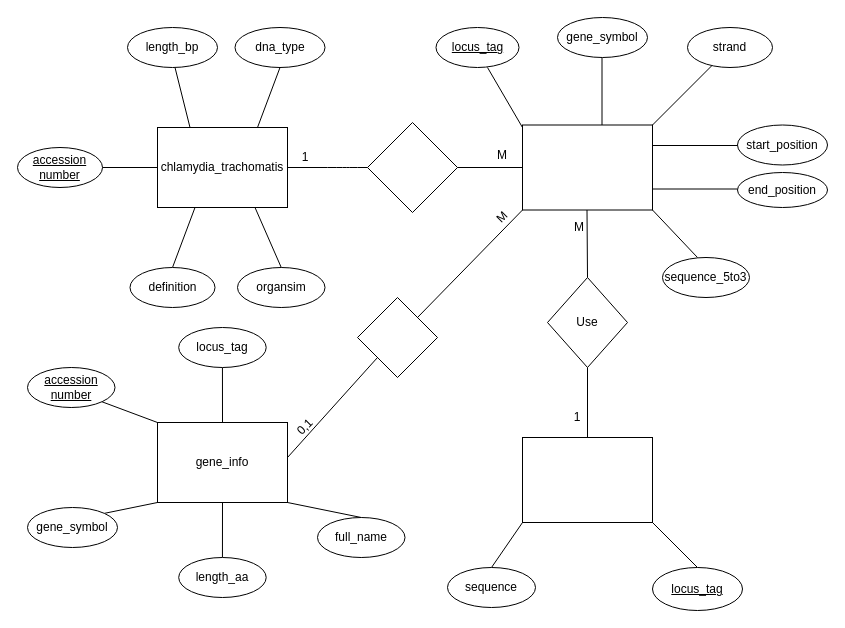
Some shapes in this 845 by 628 pixel diagram are drawn without their labels. The centre of each missing label's shape, as x and y in pixels:
Code: point (397, 337)
coding_sequence: point (587, 167)
Has: point (412, 167)
promoters_prediction: point (587, 479)
